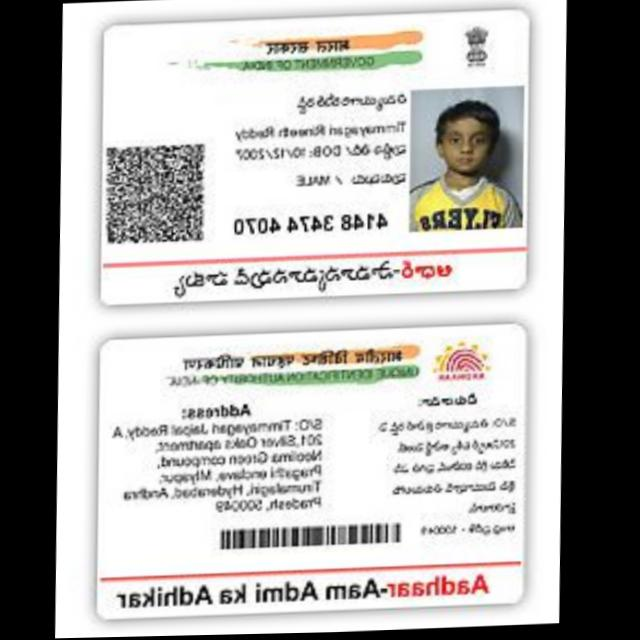aadhaar: (90, 5, 547, 316)
